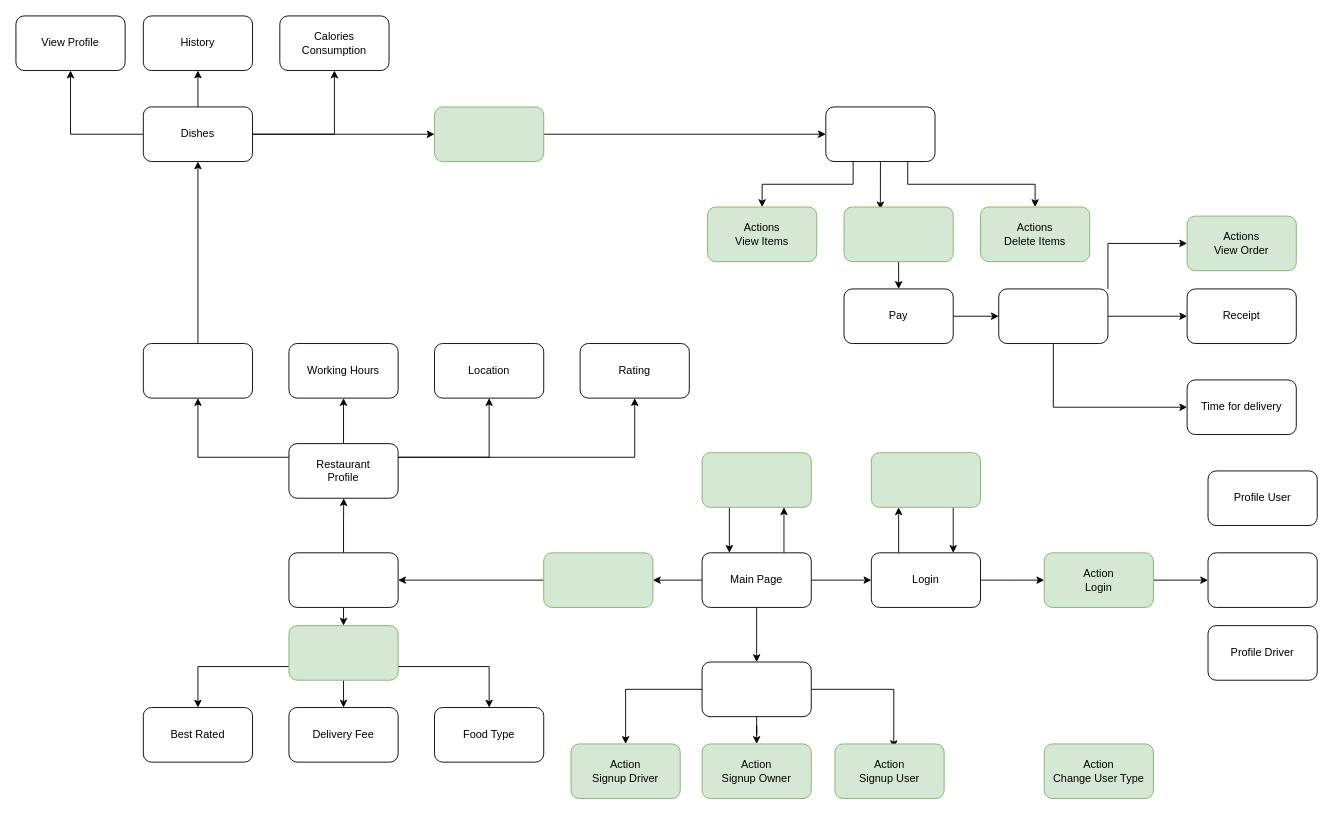
This 1333x814 diagram has some shape labels left out. The shapes that lost their labels are listed below. From the top down, each one's centre as x and y in pixels, then its label:
the point at 489,134: Action Add To Cart
the point at 880,134: Cart
the point at 898,234: Actions Checkout
the point at 1053,316: Order
the point at 197,370: Menu
the point at 756,479: Action Logout
the point at 925,479: Action Reset PWD
the point at 343,579: Restaurants
the point at 598,579: Action Search
the point at 1262,579: Profile Owner
the point at 343,652: Action Filter
the point at 756,689: Singup
